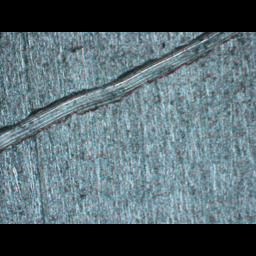d: (0, 32, 242, 157)
